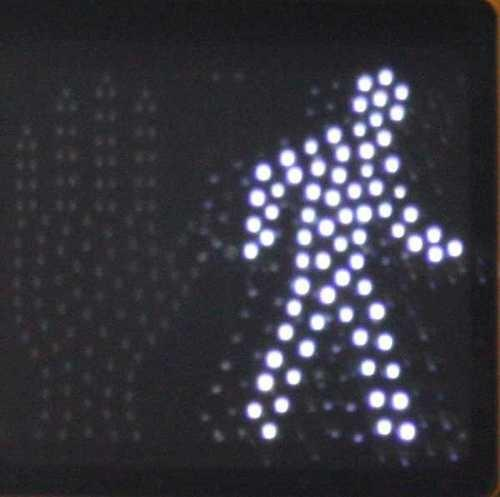green: (9, 8, 480, 492)
